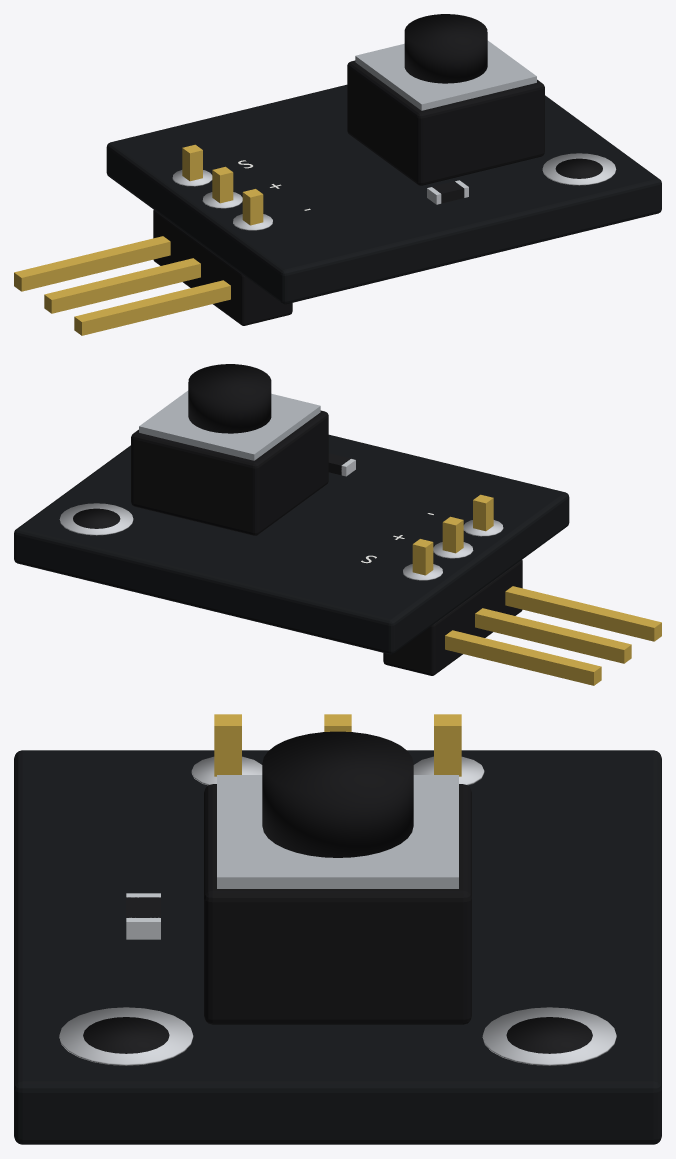
Rendered from button-module.glb.
3 views of the same model, one above another, from view 1: azimuth 30°, elevation 25°; view 2: azimuth 150°, elevation 25°; view 3: azimuth 270°, elevation 25° (orthographic). The views are drawn at different scales.
Parts seen in each view (by area): view 1: pcb.026, part.079, part.081, part.080, header.026, pin_h.090, pin_h.089, pin_h.091, hole_ring.044, hole.044, pin_v.090, pin_v.091 (+1 smaller); view 2: pcb.026, part.079, part.081, part.080, header.026, pin_h.090, pin_h.089, pin_h.091, hole_ring.043, hole.043, pin_v.089, pin_v.090 (+1 smaller); view 3: pcb.026, part.079, part.081, part.080, hole_ring.043, hole_ring.044, hole.043, hole.044, pin_v.089, pin_v.091, pad.089, pad.091 (+2 smaller).
Boxes of the visible parts, box(x1,y1,x2,y2) form: pcb.026: box(106, 84, 661, 304); part.079: box(347, 60, 544, 185); part.081: box(404, 14, 487, 83); part.080: box(355, 40, 536, 110); header.026: box(153, 210, 292, 325); pin_h.090: box(44, 258, 200, 313); pin_h.089: box(14, 236, 170, 291); pin_h.091: box(74, 280, 230, 335); hole_ring.044: box(542, 153, 616, 185); hole.044: box(555, 158, 602, 178); pin_v.090: box(212, 166, 233, 203); pin_v.091: box(242, 189, 263, 225); pcb.026: box(14, 434, 569, 654); part.079: box(131, 410, 328, 535); part.081: box(188, 364, 271, 433); part.080: box(139, 390, 320, 460); header.026: box(383, 560, 522, 675); pin_h.090: box(475, 608, 631, 663); pin_h.089: box(445, 630, 601, 685); pin_h.091: box(505, 586, 661, 641); hole_ring.043: box(59, 503, 133, 535); hole.043: box(73, 508, 120, 528); pin_v.089: box(412, 539, 433, 575); pin_v.090: box(442, 516, 463, 553); pcb.026: box(14, 750, 661, 1144); part.079: box(204, 784, 471, 1024); part.081: box(262, 731, 413, 857); part.080: box(217, 775, 458, 888); hole_ring.043: box(482, 1007, 616, 1065); hole_ring.044: box(59, 1007, 193, 1065); hole.043: box(506, 1017, 592, 1053); hole.044: box(83, 1017, 169, 1053); pin_v.089: box(434, 714, 461, 776); pin_v.091: box(214, 714, 241, 776); pad.089: box(413, 756, 484, 785); pad.091: box(191, 756, 262, 785).
Bounding box in the file's own units: 0.0256 × 0.0094 × 0.015.
